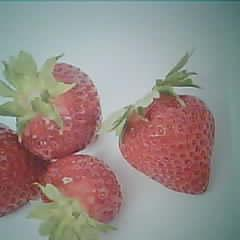straw-ripe: (119, 95, 214, 194), (15, 63, 104, 158)
